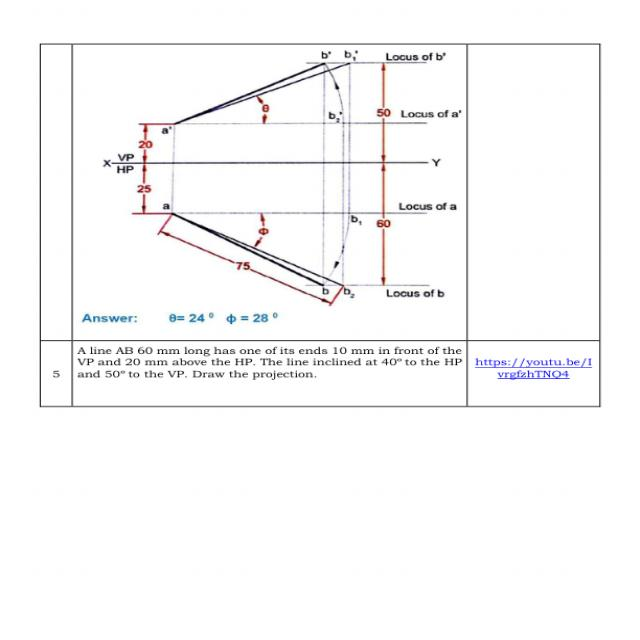Drawings: (95, 46, 462, 310)
